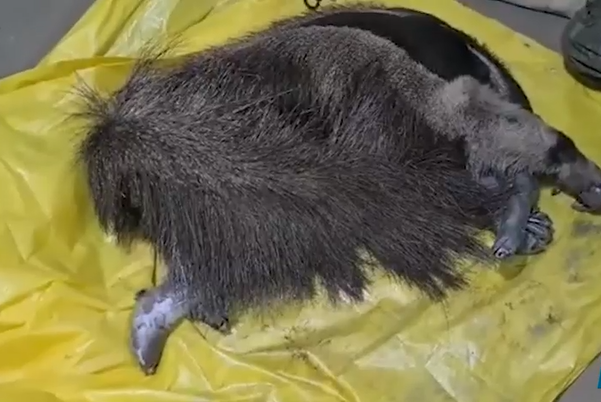TamanduaBandeira: (75, 6, 595, 375)
